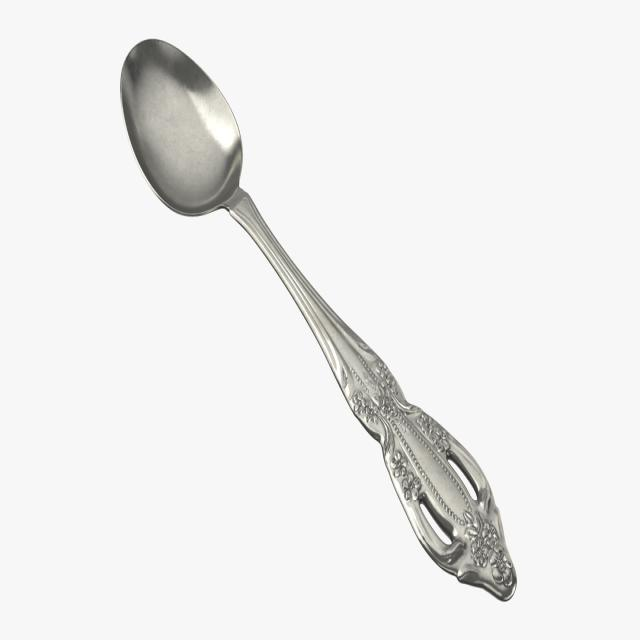spoon: (116, 27, 522, 600)
